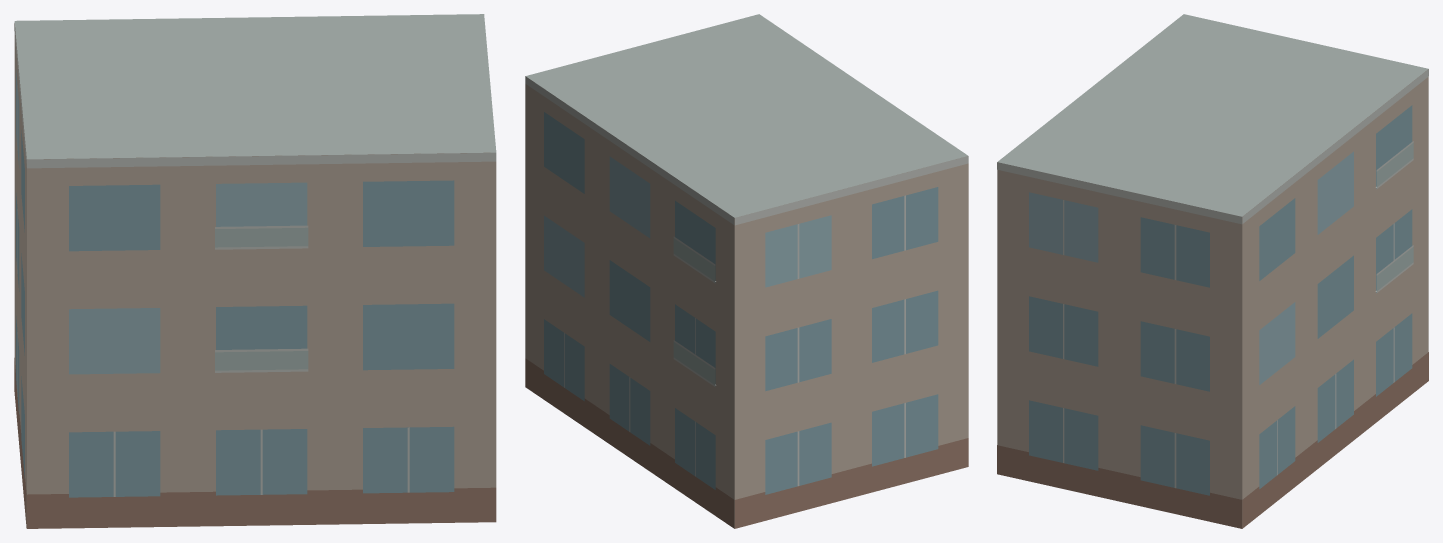
The model's file is survey-upis-32830697.glb.
The picture shows the model from 3 angles, left to right: view 1: azimuth 30°, elevation 25°; view 2: azimuth 150°, elevation 25°; view 3: azimuth 270°, elevation 25°; orthographic projection. The views are drawn at different scales.
Parts seen in each view (by area): view 1: survey-upis-32830697.tmp; view 2: survey-upis-32830697.tmp; view 3: survey-upis-32830697.tmp.
Boxes of the visible parts, x1=… form: survey-upis-32830697.tmp: x1=14, y1=14, x2=496, y2=528; survey-upis-32830697.tmp: x1=525, y1=14, x2=968, y2=528; survey-upis-32830697.tmp: x1=997, y1=14, x2=1428, y2=528.
Bounding box in the file's own units: 13.94 × 10 × 12.54.
